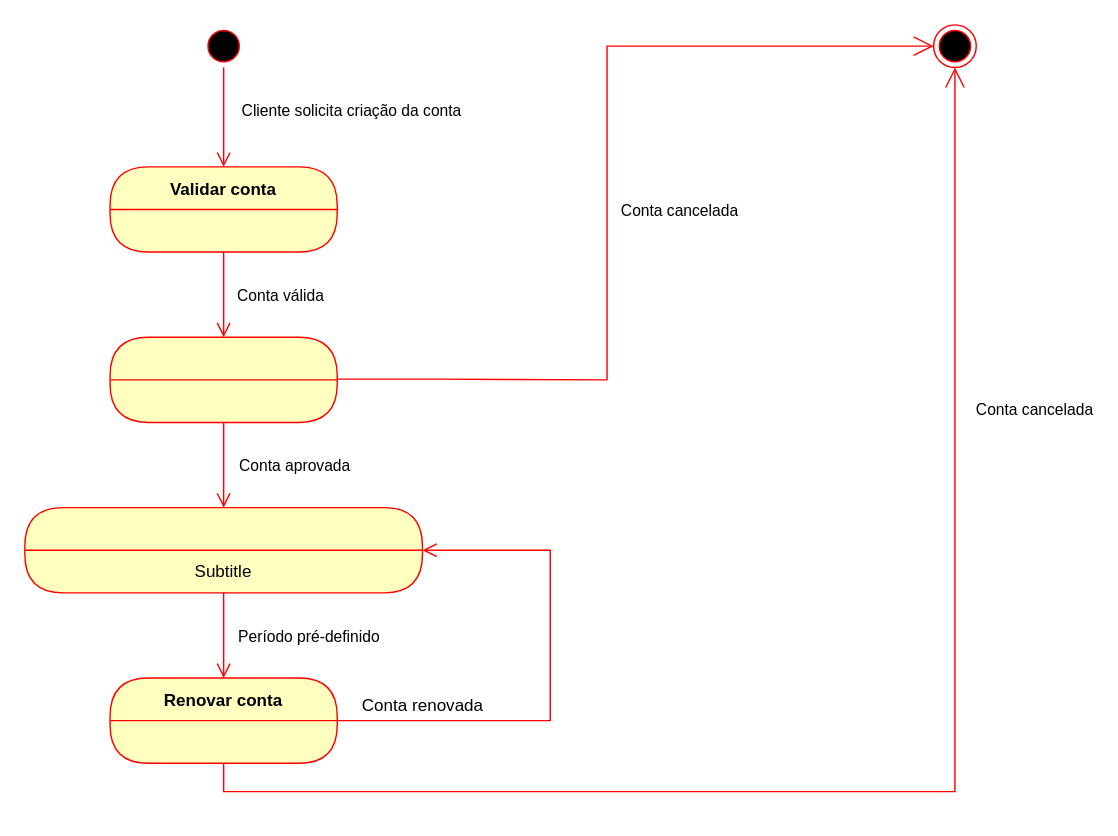
Some shapes in this 1118 by 836 pixel diagram are drawn without their labels. The shapes that lost their labels are listed below. From the top down, each one's box as (x1, y1, x2, y2) in pixels, then its label:
(109, 336, 337, 422): Aprovar conta
(23, 506, 422, 593): Conta estável e disponível no sistema
